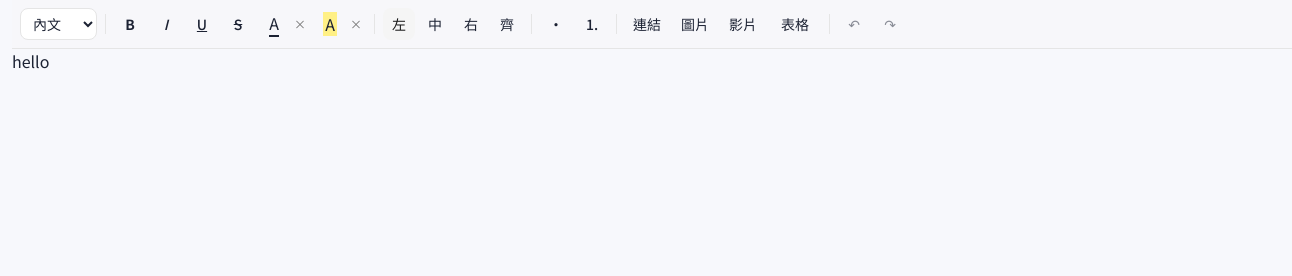
Test: 表格選單可以插入 3x3 表格
This screenshot has width=1292, height=276.
Click the button "表格": {"x": 795, "y": 24} [769, 8, 821, 40]
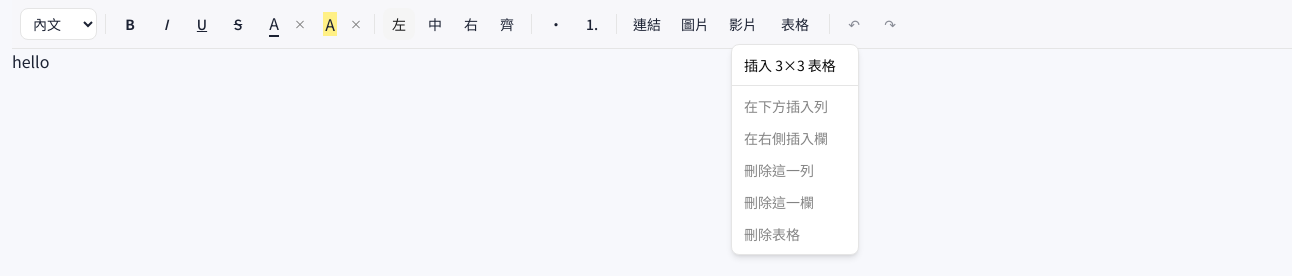
Now the menu is shown, box [731, 44, 859, 255]
Click the menu item "插入 3×3 表格": {"x": 790, "y": 65} [744, 55, 836, 75]
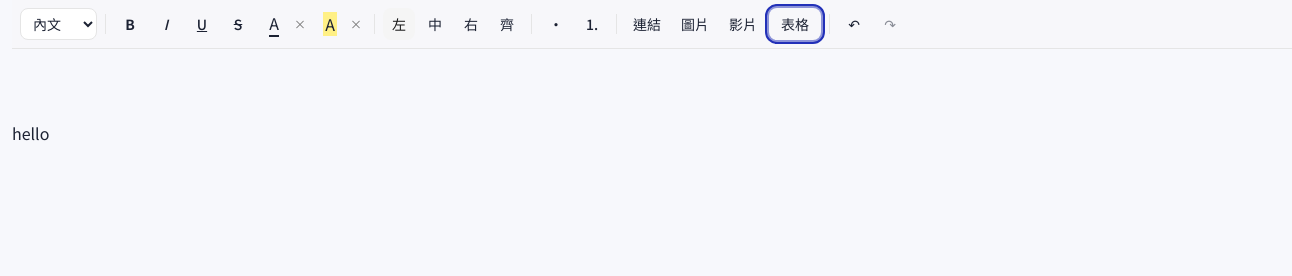
Now the number of cells is 9
